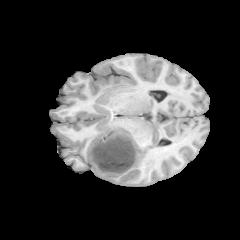glioma: (84, 113, 155, 178)
